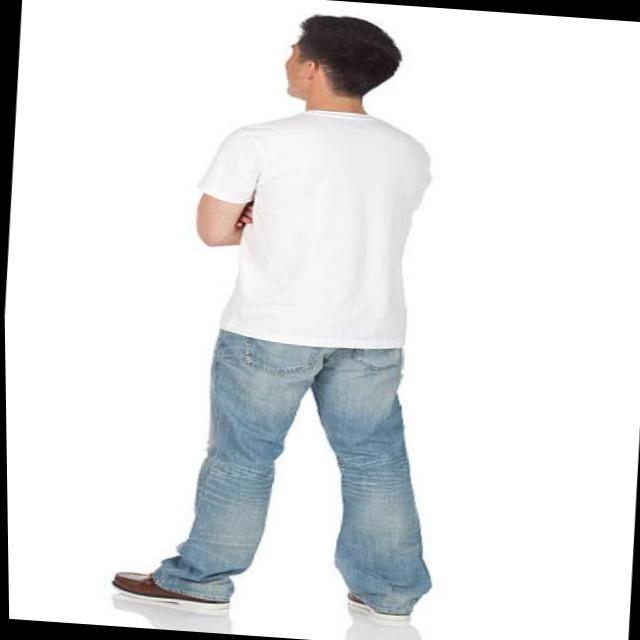no helmet: (276, 4, 418, 128)
